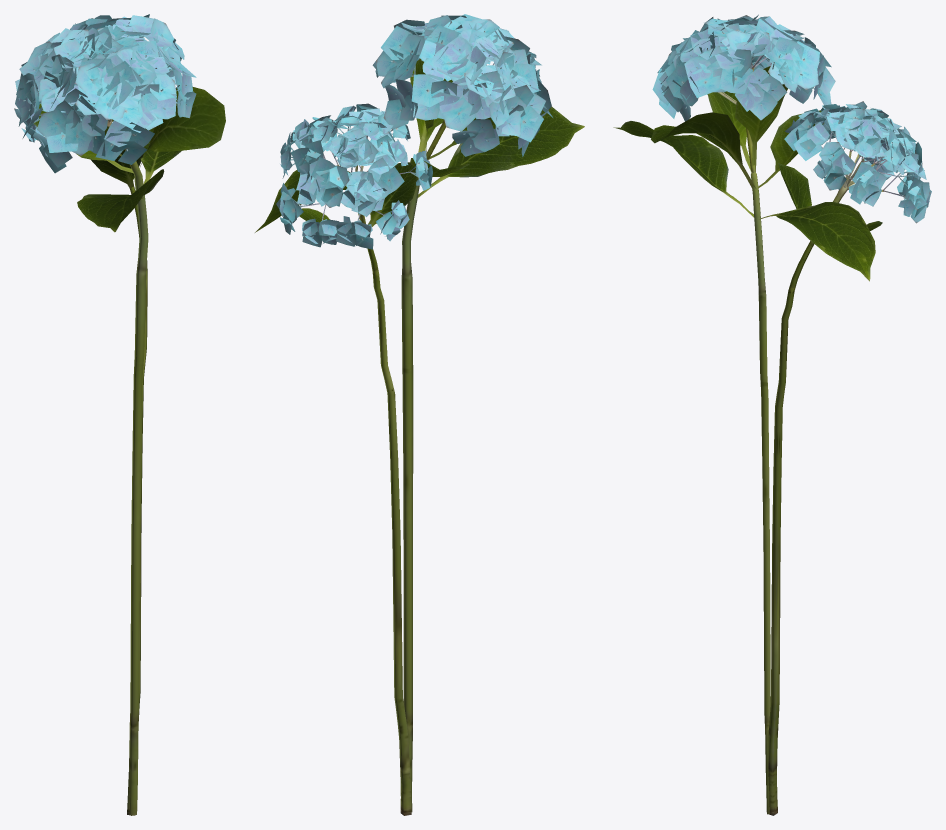
Rendered from Hydrangea_bush_long_cyan.glb.
3 views of the same model, side by side, from view 1: azimuth 30°, elevation 25°; view 2: azimuth 150°, elevation 25°; view 3: azimuth 270°, elevation 25° (orthographic). The views are drawn at different scales.
Visible parts, largest first — view 1: BUSHEKK; view 2: BUSHEKK; view 3: BUSHEKK.
Part boxes in pixels (<box>): BUSHEKK: <box>14,14,225,815</box>; BUSHEKK: <box>255,14,584,815</box>; BUSHEKK: <box>613,14,931,815</box>.
Bounding box in the file's own units: 1.48 × 5.02 × 1.87.
Materials: 1 (1 with a texture image).
